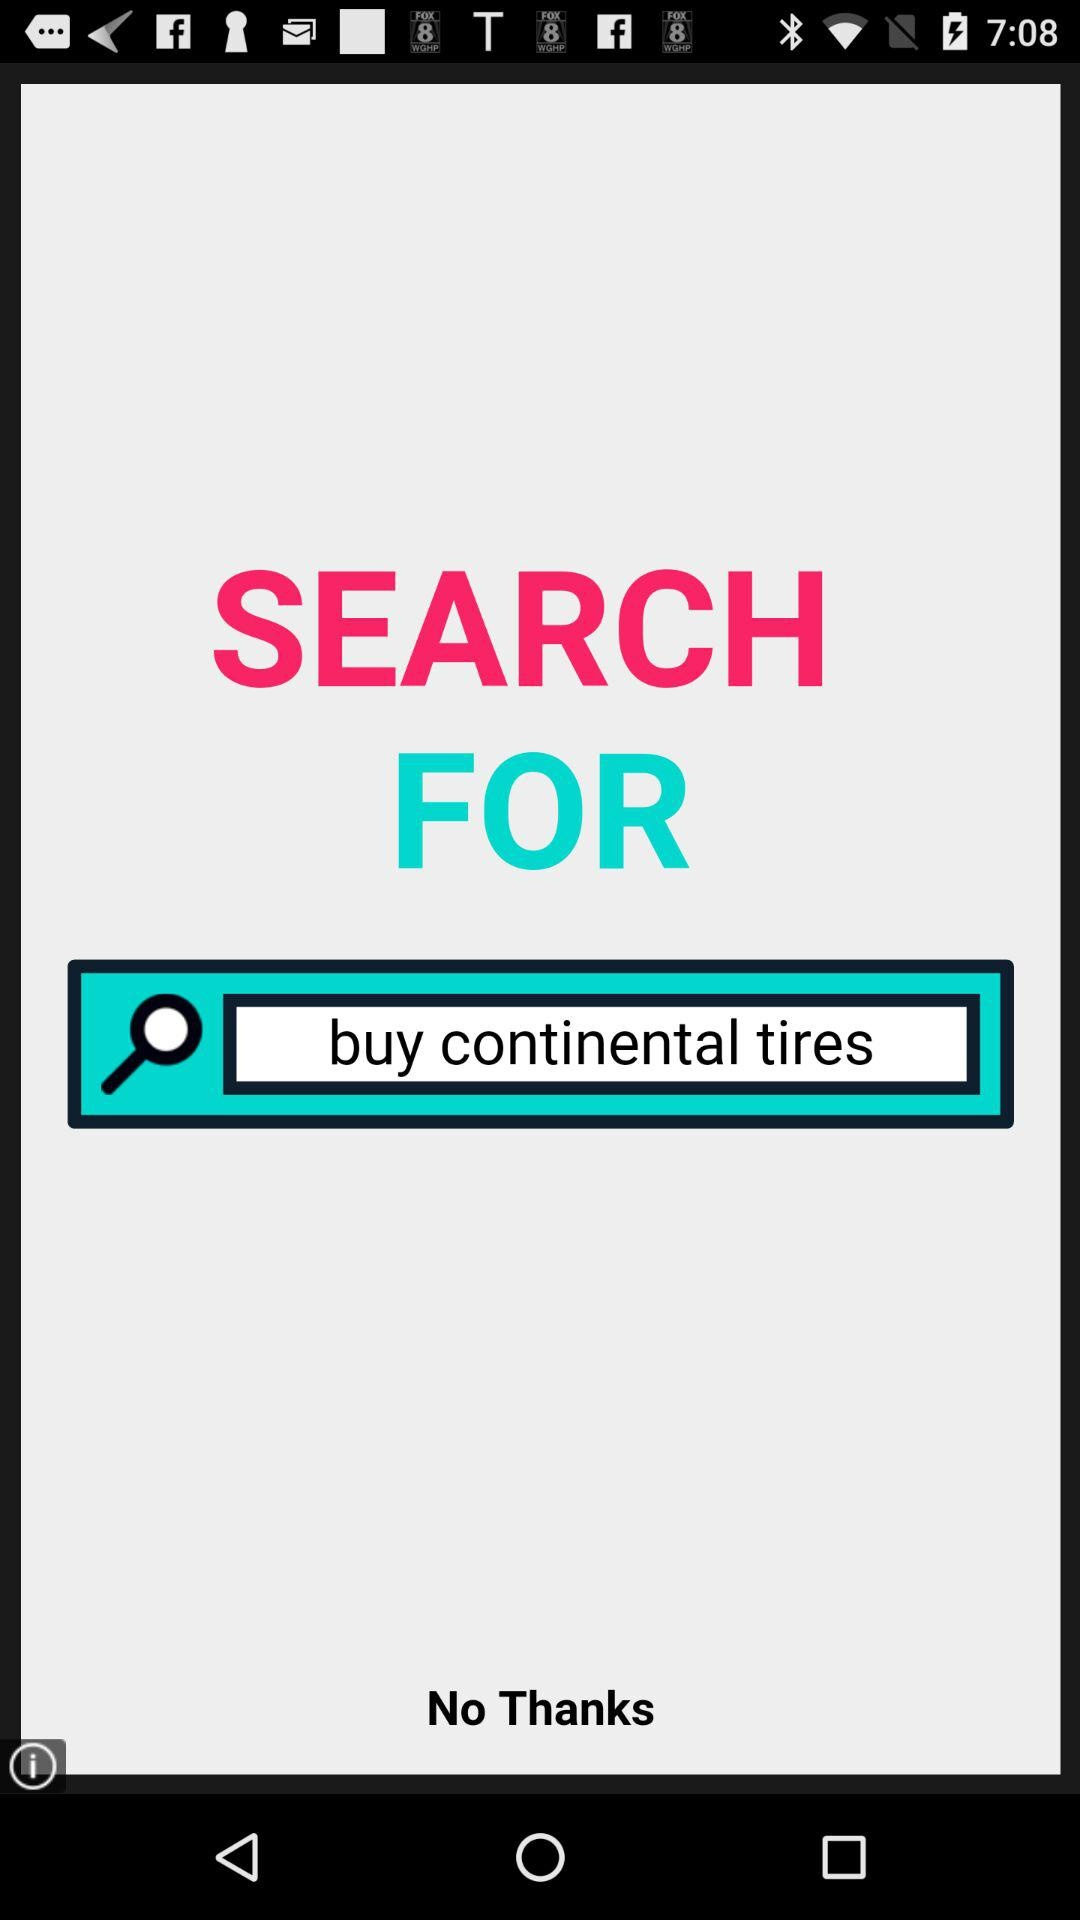ImageView: (5, 1738, 66, 1793)
